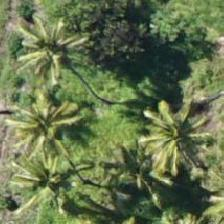coconut_tree: (131, 97, 221, 187), (0, 76, 90, 166), (4, 9, 94, 99), (0, 137, 85, 223)
